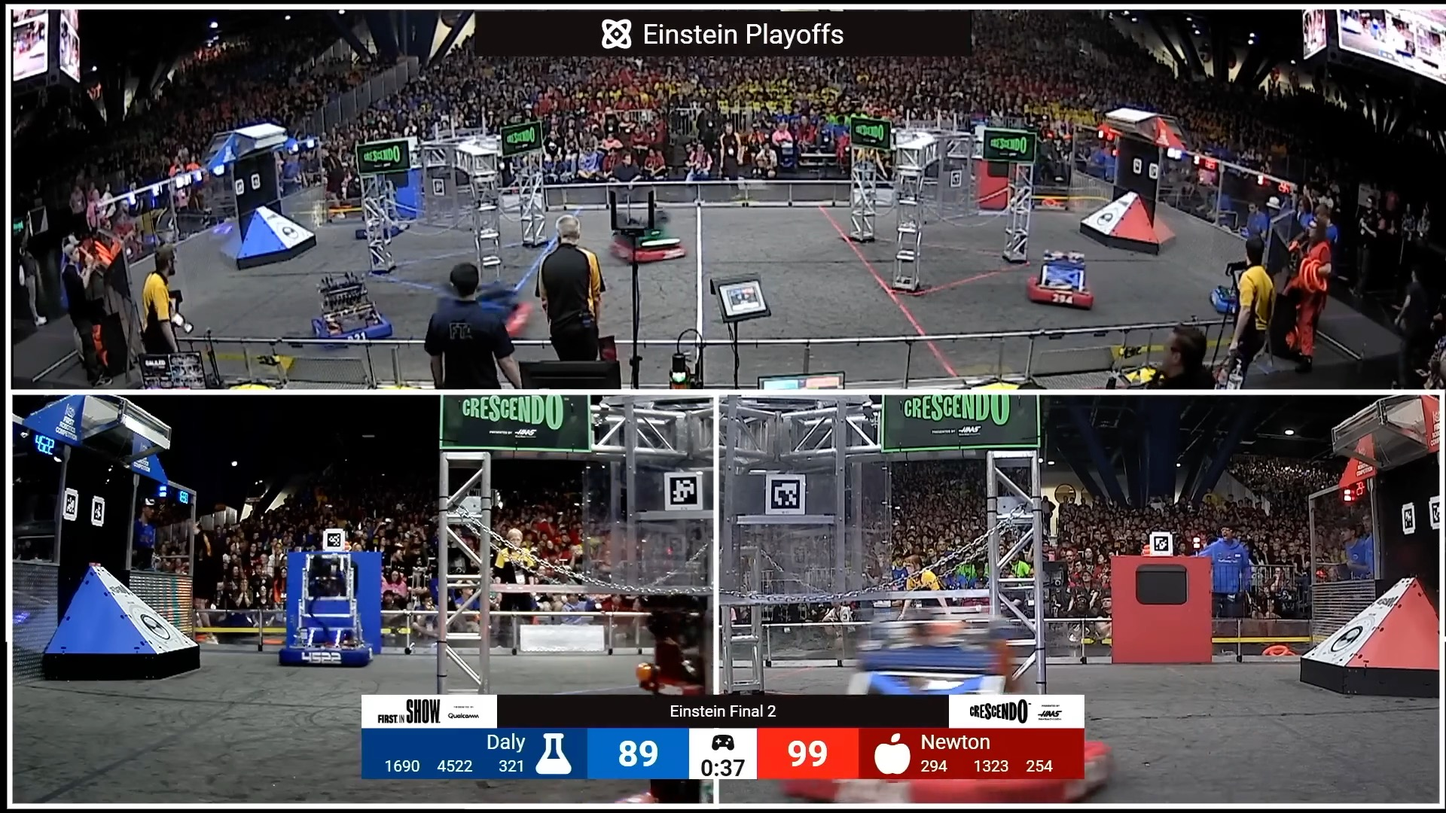bumpers: (771, 736, 1127, 805), (266, 632, 380, 677), (303, 308, 401, 356), (1020, 264, 1101, 313), (609, 228, 697, 266), (1204, 286, 1292, 319), (348, 217, 421, 243)
